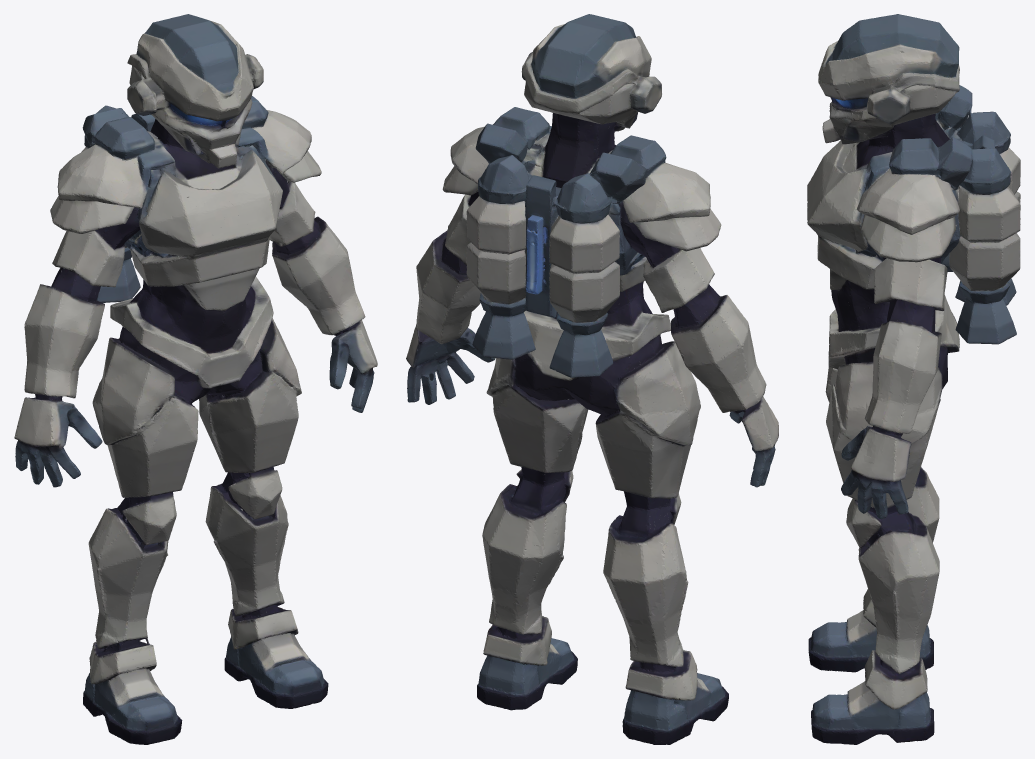
File: engineer-hq-s202.glb
3 renders of one model, left to right at view 1: azimuth 30°, elevation 25°; view 2: azimuth 150°, elevation 25°; view 3: azimuth 270°, elevation 25°, orthographic. The views are drawn at different scales.
Visible parts, largest first — view 1: geometry_0; view 2: geometry_0; view 3: geometry_0.
Part boxes in pixels (left/top/right/bottom): geometry_0: left=14, top=14, right=377, bottom=744; geometry_0: left=406, top=14, right=778, bottom=744; geometry_0: left=807, top=14, right=1020, bottom=744.
Size of the model in its own units: 0.2795 by 0.4991 by 0.1436.
1 material, 1 textured.
